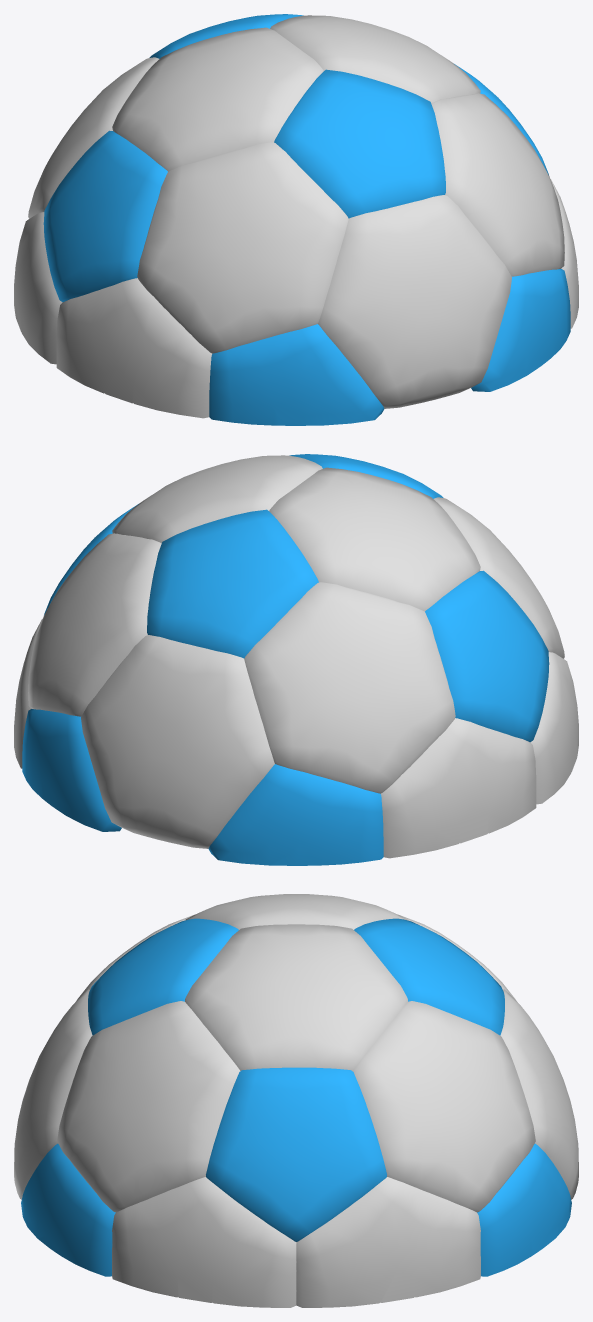
Rendered from Cake_ThemeToys_C.FBX.
3 views of the same model, one above another, from view 1: azimuth 30°, elevation 25°; view 2: azimuth 150°, elevation 25°; view 3: azimuth 270°, elevation 25° (orthographic).
Parts seen in each view (by area): view 1: Cake_ThemeToys_C; view 2: Cake_ThemeToys_C; view 3: Cake_ThemeToys_C.
Boxes of the visible parts, bbox=[...] form: Cake_ThemeToys_C: bbox=[14, 14, 578, 425]; Cake_ThemeToys_C: bbox=[14, 454, 578, 865]; Cake_ThemeToys_C: bbox=[14, 894, 578, 1307].
Bounding box in the file's own units: 82766 × 43110 × 82766.
